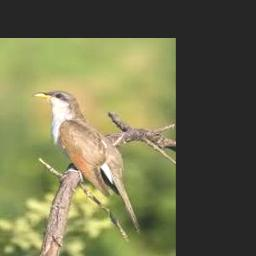Cuckoo: (33, 90, 140, 232)
